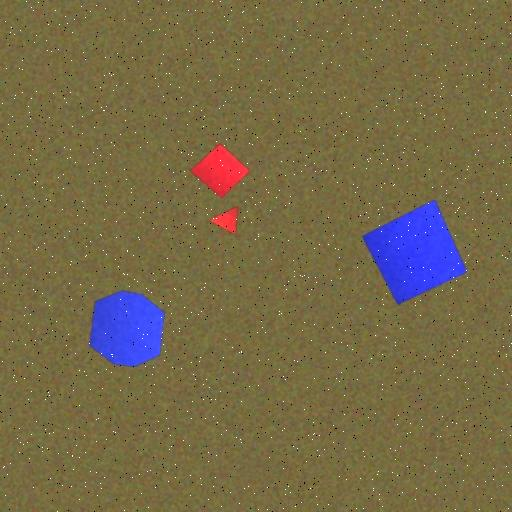BLUE_SQUARE: (361, 198, 468, 306)
RED_SQUARE: (189, 142, 251, 198)
